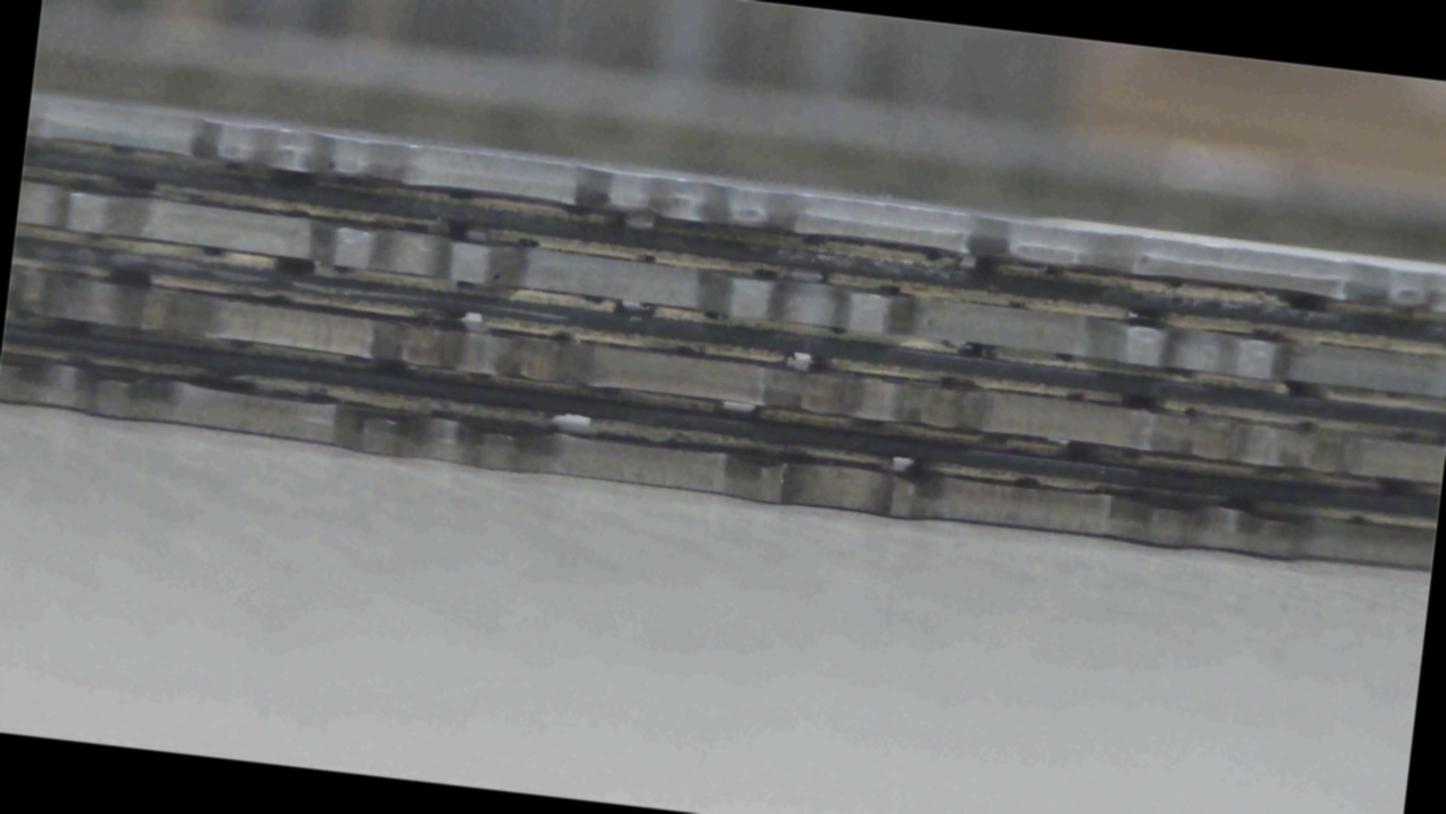Black metal plate: (0, 355, 1435, 572)
shiney metal plate: (0, 174, 1445, 231), (4, 264, 1445, 318), (0, 353, 1428, 403)
spacer: (0, 341, 1370, 786), (0, 407, 1445, 439), (0, 319, 1445, 350)
